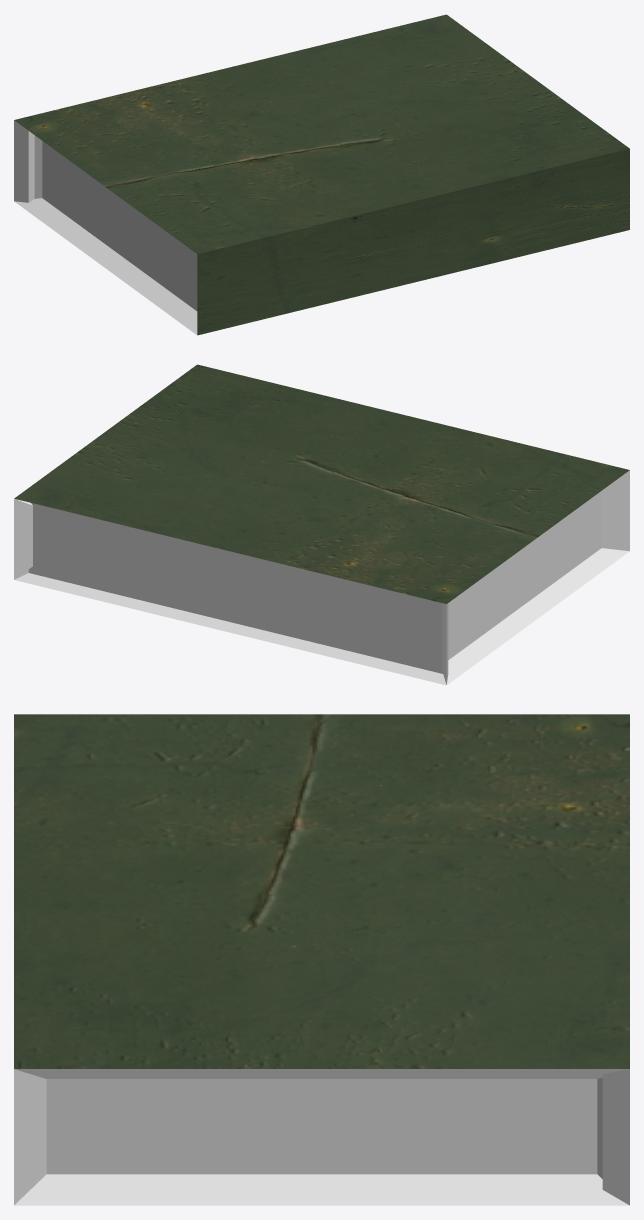
File: libroFase1.fbx
3 renders of one model, top to bottom at view 1: azimuth 30°, elevation 25°; view 2: azimuth 150°, elevation 25°; view 3: azimuth 270°, elevation 25°, orthographic. The views are drawn at different scales.
Visible parts, largest first — view 1: pCube1; view 2: pCube1; view 3: pCube1.
Boxes of the visible parts, left/top/right/bottom form: pCube1: left=14, top=14, right=629, bottom=335; pCube1: left=14, top=364, right=629, bottom=685; pCube1: left=14, top=714, right=629, bottom=1205.
Size of the model in its own units: 0.5157 by 0.0926 by 0.3784.
Materials: 2 (1 with a texture image).
